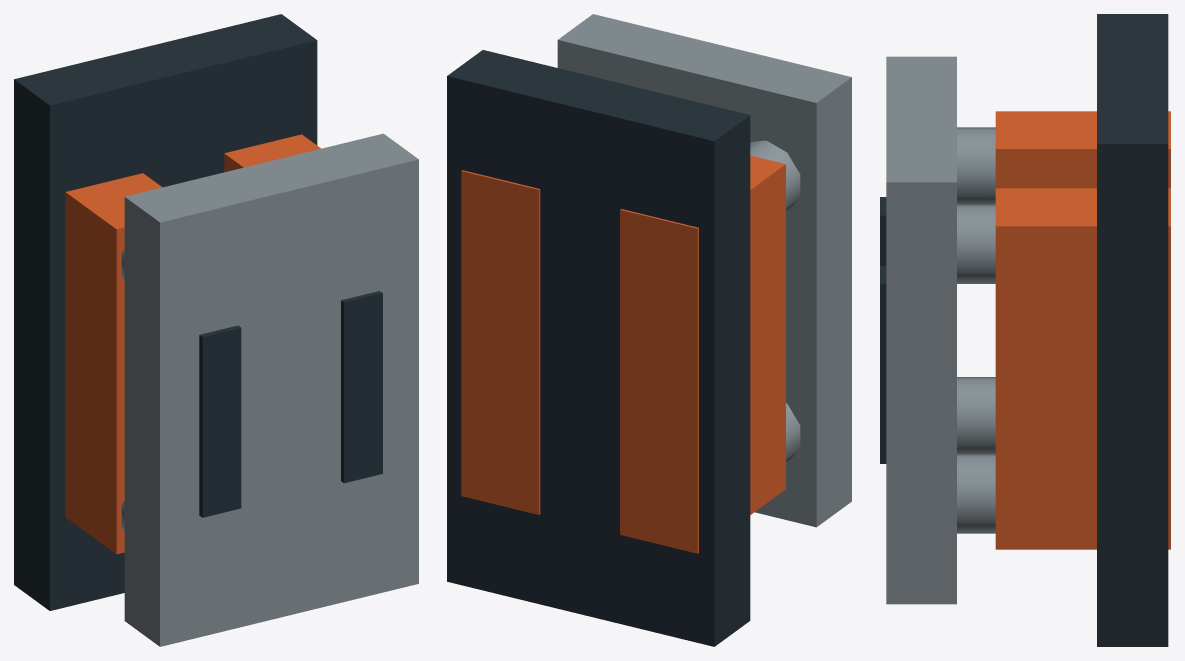
File: bk_6_zamok.glb
The picture shows the model from 3 angles, left to right: view 1: azimuth 30°, elevation 25°; view 2: azimuth 150°, elevation 25°; view 3: azimuth 270°, elevation 25°; orthographic projection.
Visible parts, largest first — view 1: bk_6_zamok.release_plate.mesh_JUGRE_·_bead-blasted_titanium, bk_6_zamok.host_plate.mesh_JUGRE_·_graphite_composite, bk_6_zamok.clamp_l.mesh_JUGRE_·_oxide_orange, bk_6_zamok.release_plate.mesh_JUGRE_·_graphite_composite, bk_6_zamok.clamp_r.mesh_JUGRE_·_oxide_orange; view 2: bk_6_zamok.host_plate.mesh_JUGRE_·_graphite_composite, bk_6_zamok.release_plate.mesh_JUGRE_·_bead-blasted_titanium, bk_6_zamok.clamp_l.mesh_JUGRE_·_oxide_orange, bk_6_zamok.clamp_r.mesh_JUGRE_·_oxide_orange, bk_6_zamok.clamp_l.mesh_JUGRE_·_bead-blasted_titanium; view 3: bk_6_zamok.host_plate.mesh_JUGRE_·_graphite_composite, bk_6_zamok.release_plate.mesh_JUGRE_·_bead-blasted_titanium, bk_6_zamok.clamp_r.mesh_JUGRE_·_oxide_orange, bk_6_zamok.clamp_l.mesh_JUGRE_·_oxide_orange, bk_6_zamok.clamp_r.mesh_JUGRE_·_bead-blasted_titanium, bk_6_zamok.clamp_l.mesh_JUGRE_·_bead-blasted_titanium, bk_6_zamok.release_plate.mesh_JUGRE_·_graphite_composite.
Part boxes in pixels (<box>): bk_6_zamok.release_plate.mesh_JUGRE_·_bead-blasted_titanium: <box>124,133,418,646</box>; bk_6_zamok.host_plate.mesh_JUGRE_·_graphite_composite: <box>14,14,317,610</box>; bk_6_zamok.clamp_l.mesh_JUGRE_·_oxide_orange: <box>65,173,162,554</box>; bk_6_zamok.release_plate.mesh_JUGRE_·_graphite_composite: <box>199,291,382,517</box>; bk_6_zamok.clamp_r.mesh_JUGRE_·_oxide_orange: <box>224,134,320,172</box>; bk_6_zamok.host_plate.mesh_JUGRE_·_graphite_composite: <box>447,50,750,646</box>; bk_6_zamok.release_plate.mesh_JUGRE_·_bead-blasted_titanium: <box>557,14,851,527</box>; bk_6_zamok.clamp_l.mesh_JUGRE_·_oxide_orange: <box>620,155,785,553</box>; bk_6_zamok.clamp_r.mesh_JUGRE_·_oxide_orange: <box>461,170,540,514</box>; bk_6_zamok.clamp_l.mesh_JUGRE_·_bead-blasted_titanium: <box>750,140,800,464</box>; bk_6_zamok.host_plate.mesh_JUGRE_·_graphite_composite: <box>1097,14,1168,646</box>; bk_6_zamok.release_plate.mesh_JUGRE_·_bead-blasted_titanium: <box>886,56,956,604</box>; bk_6_zamok.clamp_r.mesh_JUGRE_·_oxide_orange: <box>995,188,1170,549</box>; bk_6_zamok.clamp_l.mesh_JUGRE_·_oxide_orange: <box>995,111,1170,188</box>; bk_6_zamok.clamp_r.mesh_JUGRE_·_bead-blasted_titanium: <box>957,204,995,533</box>; bk_6_zamok.clamp_l.mesh_JUGRE_·_bead-blasted_titanium: <box>957,127,995,453</box>; bk_6_zamok.release_plate.mesh_JUGRE_·_graphite_composite: <box>880,197,886,463</box>.
Bounding box in the file's own units: 0.31 × 0.56 × 0.2935.
